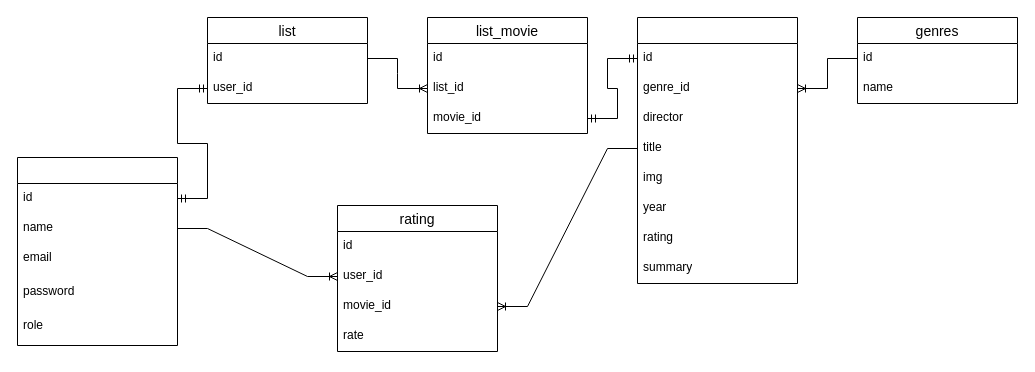
This 1035x372 diagram has some shape labels left out. Each missing label, with the box of its shape:
movie: (636, 16, 798, 284)
user: (16, 156, 178, 346)
